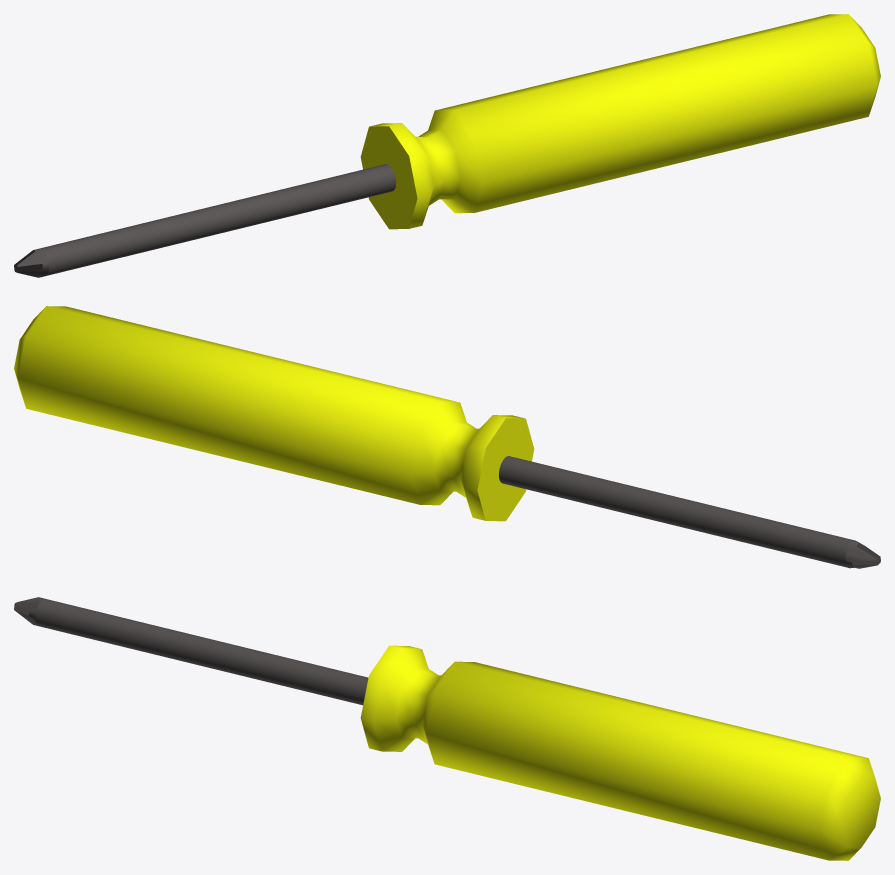
The model's file is 3a72a09d-e359-4216-941c-449dae7b3441.glb.
3 renders of one model, top to bottom at view 1: azimuth 30°, elevation 25°; view 2: azimuth 150°, elevation 25°; view 3: azimuth 330°, elevation 25°, orthographic.
Visible parts, largest first — view 1: ScrewdriverCrosshead; view 2: ScrewdriverCrosshead; view 3: ScrewdriverCrosshead.
Boxes of the visible parts, x1,y1,x2,y2 form: ScrewdriverCrosshead: (14, 14, 880, 277); ScrewdriverCrosshead: (14, 306, 880, 568); ScrewdriverCrosshead: (14, 597, 880, 860).
Size of what is drawn, in the model's own units: 0.2146 by 0.025 by 0.025.
Materials: 1 (1 with a texture image).
